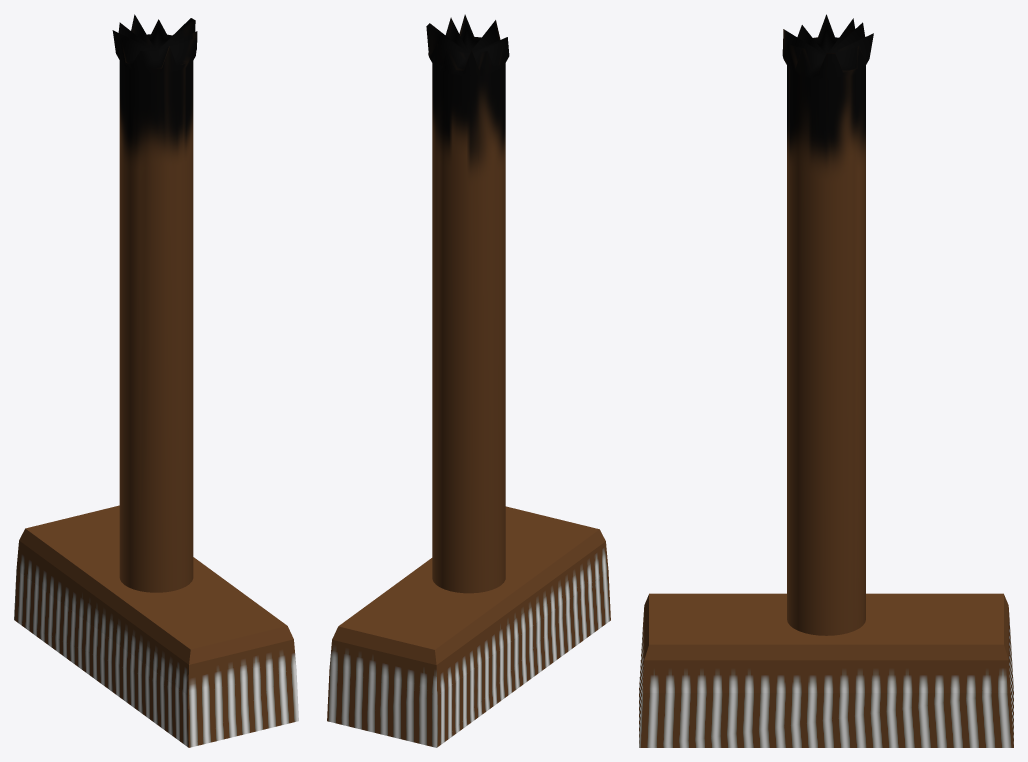
Rendered from broom.dae.
The picture shows the model from 3 angles, left to right: view 1: azimuth 30°, elevation 25°; view 2: azimuth 150°, elevation 25°; view 3: azimuth 270°, elevation 25°; orthographic projection. The views are drawn at different scales.
Visible parts, largest first — view 1: Cylinder; view 2: Cylinder; view 3: Cylinder.
Part boxes in pixels (box(x1,y1,x2,y2)): Cylinder: box(14, 14, 298, 747); Cylinder: box(327, 14, 610, 747); Cylinder: box(639, 14, 1013, 747).
Bounding box in the file's own units: 0.7104 × 1.95 × 3.95.
1 material, 1 textured.
